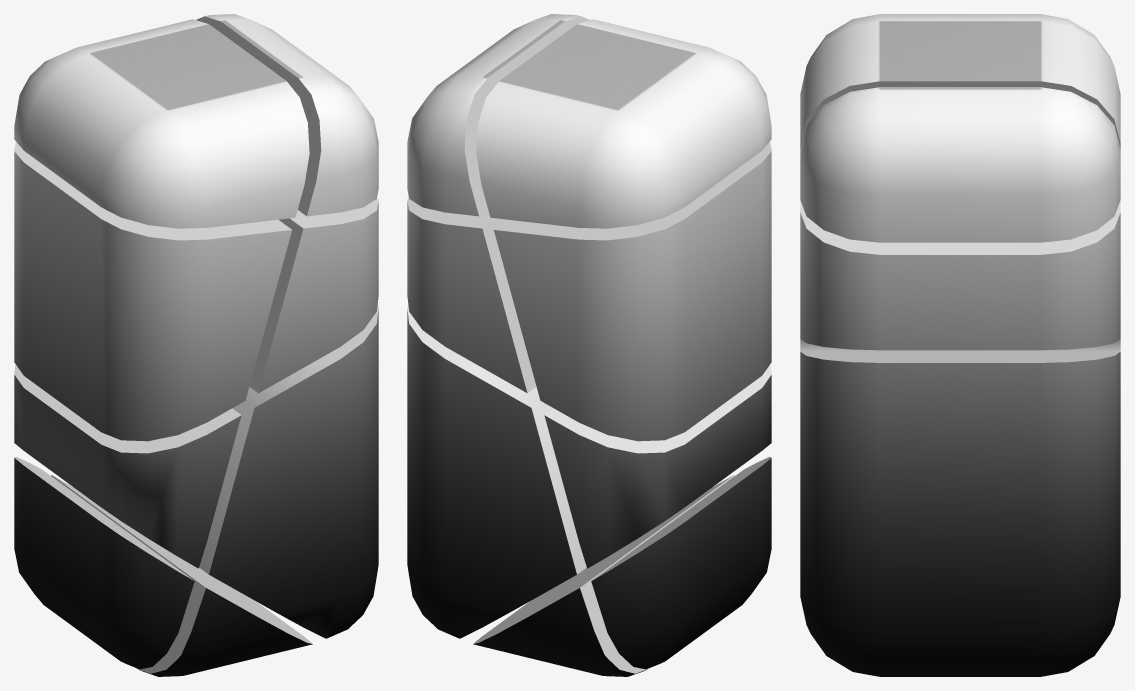
Rendered from DestructilePL_2x1_V1.fbx.
The picture shows the model from 3 angles, left to right: view 1: azimuth 30°, elevation 25°; view 2: azimuth 150°, elevation 25°; view 3: azimuth 270°, elevation 25°; orthographic projection. The views are drawn at different scales.
Parts seen in each view (by area): view 1: DestructilePL_2x1_V1; view 2: DestructilePL_2x1_V1; view 3: DestructilePL_2x1_V1.
Boxes of the visible parts, bbox=[...] form: DestructilePL_2x1_V1: bbox=[14, 14, 378, 676]; DestructilePL_2x1_V1: bbox=[407, 14, 771, 676]; DestructilePL_2x1_V1: bbox=[800, 14, 1120, 676].
Bounding box in the file's own units: 128 × 256 × 128.
2 materials, 1 textured.
